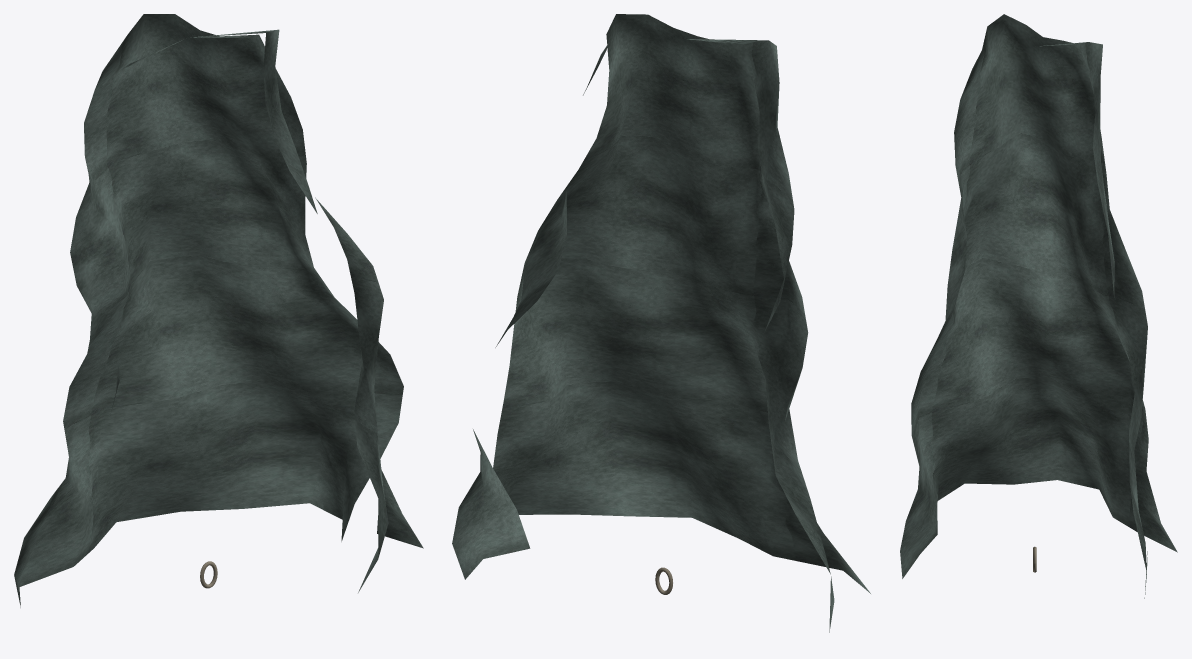
File: wraith_shrine.glb
3 renders of one model, left to right at view 1: azimuth 30°, elevation 25°; view 2: azimuth 150°, elevation 25°; view 3: azimuth 270°, elevation 25°, orthographic. The views are drawn at different scales.
Visible parts, largest first — view 1: wraith_anchor_rock; view 2: wraith_anchor_rock; view 3: wraith_anchor_rock.
Part boxes in pixels (x1,y1,x2,y2): wraith_anchor_rock: (14,14,423,607); wraith_anchor_rock: (452,14,870,632); wraith_anchor_rock: (900,14,1177,598).
Bounding box in the file's own units: 4.11 × 5.79 × 2.83.
2 materials, 1 textured.
